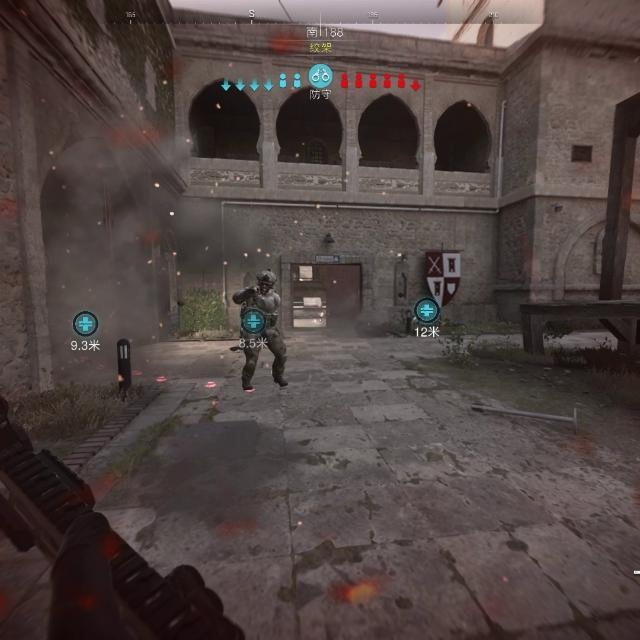MW2_body: (233, 271, 289, 389)
